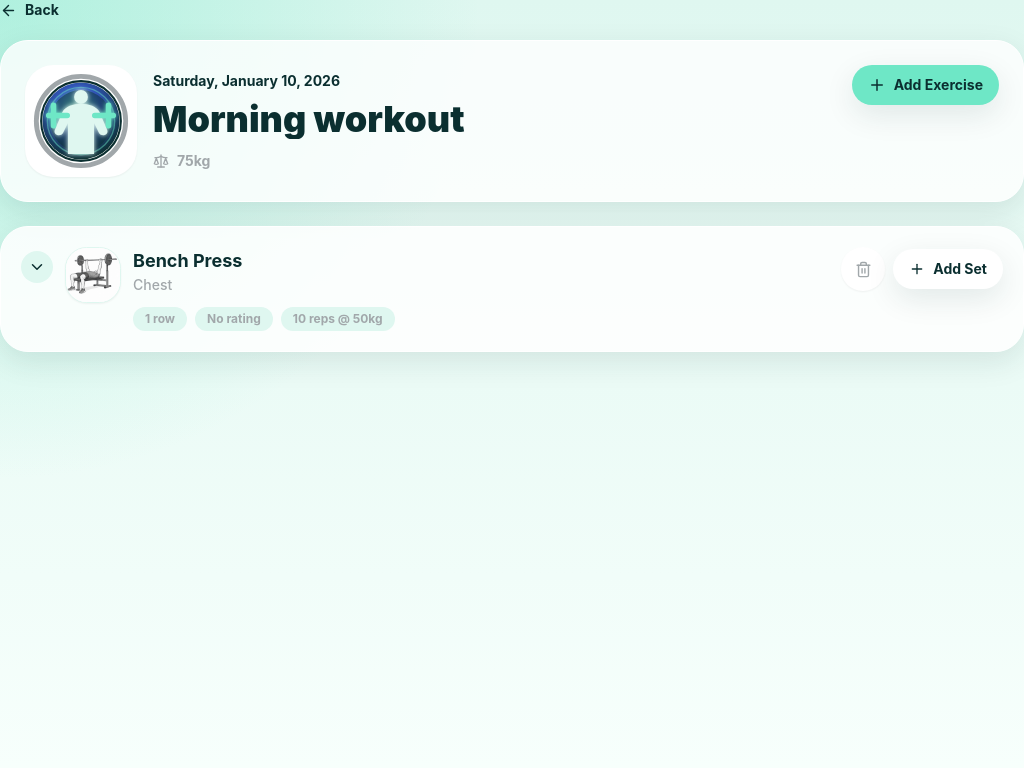
Test: shows an add-set failure without losing the entered weight
The width and height of the screenshot is (1024, 768).
Click the button "Add Set": (948, 269) [893,249,1003,289]
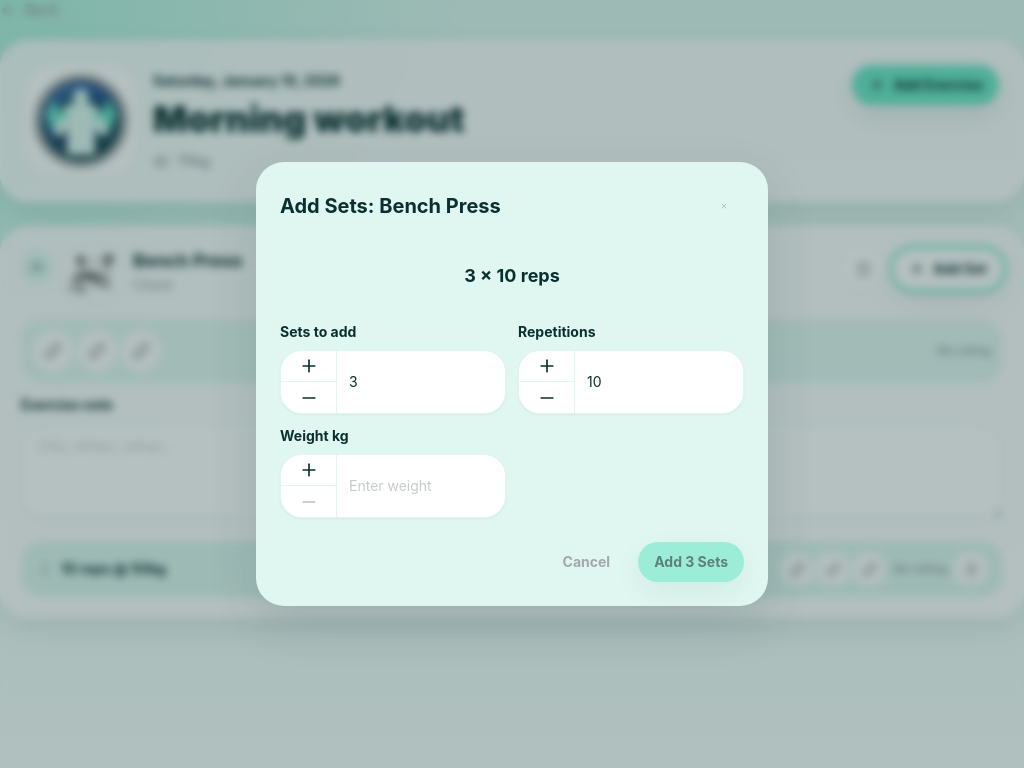
In the field labelled "Weight kg": (393, 486) [280,454,506,518], type "60"
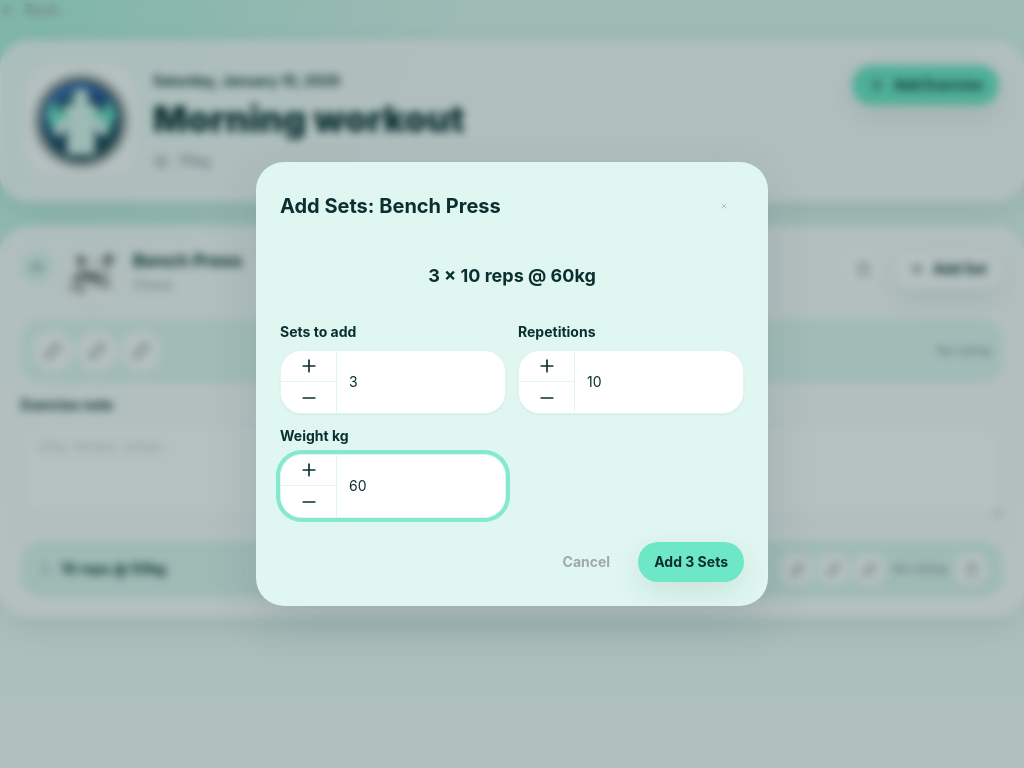
Click the button "Add 3 Sets": (691, 562) [638,542,744,582]
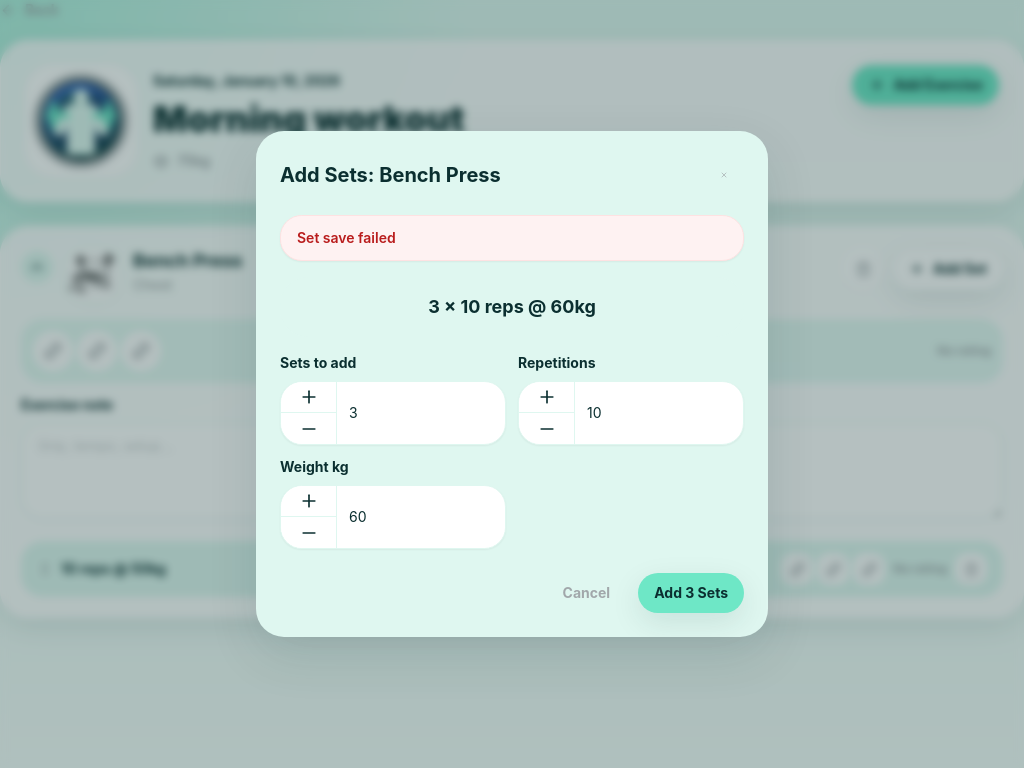
Expected: the text "Set save failed" is shown, [280,215,744,261]
